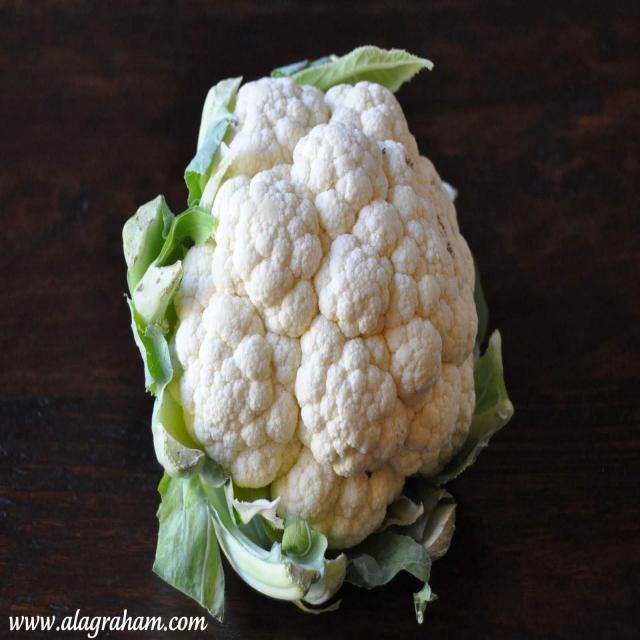cauliflower: (85, 38, 552, 634)
